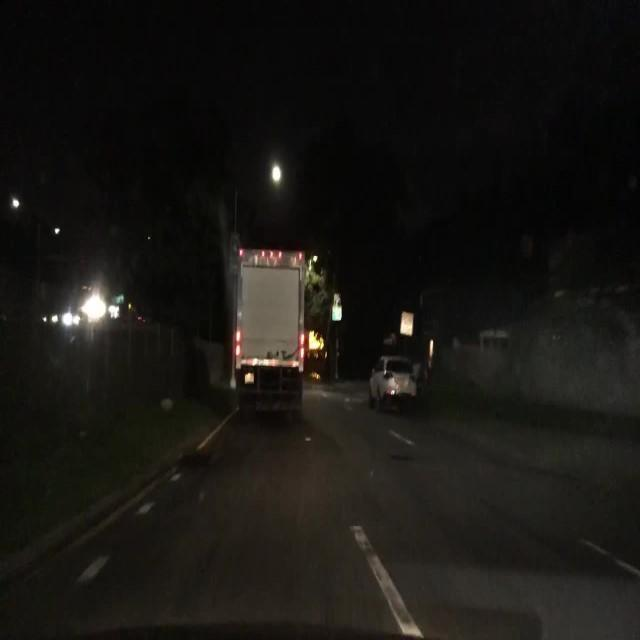normal: (225, 241, 360, 384)
